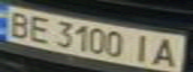0: (103, 28, 130, 60), (87, 25, 106, 56)
1: (69, 23, 90, 53)
3: (51, 19, 75, 49)
A: (148, 35, 184, 69)
B: (3, 8, 36, 39)
E: (24, 14, 54, 44)
I: (127, 33, 160, 64)
